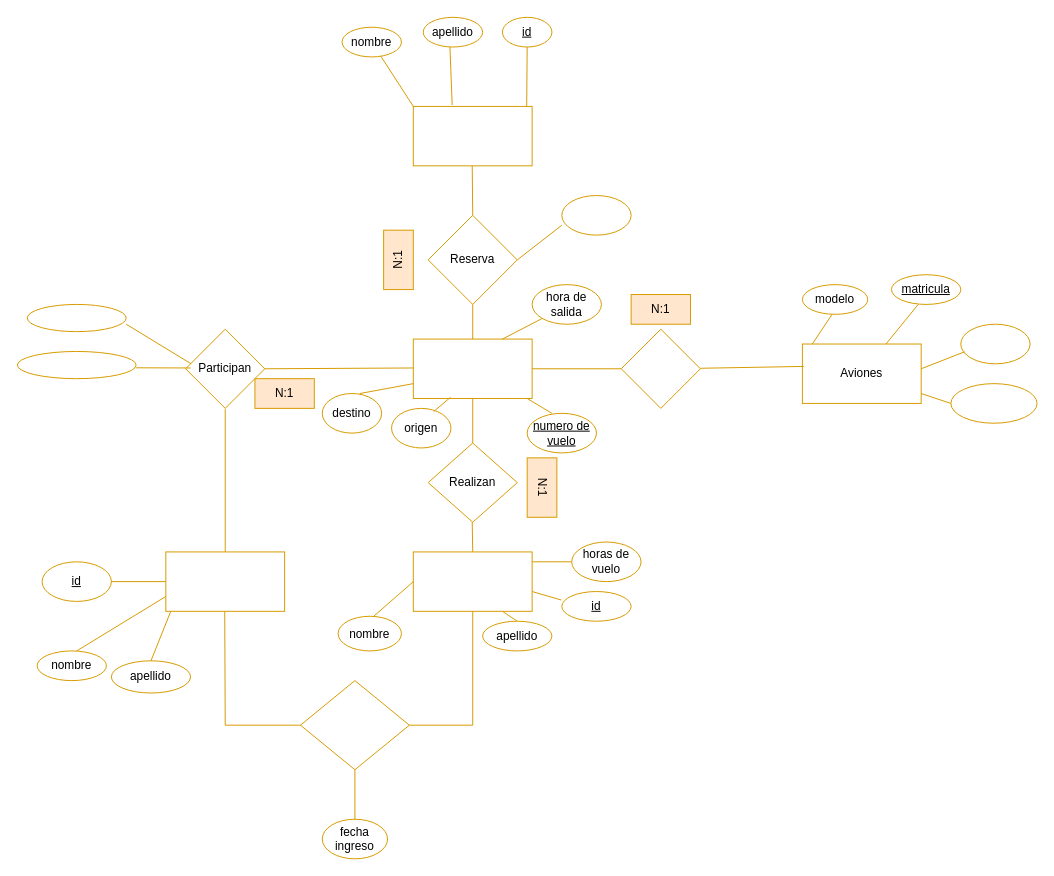
Image size: 1054x876. Some labels were removed from this diagram. The shapes that lost their labels are listed below. From the top down, each one's centre as x and y in pixels, then its label:
the point at 472,135: Pasajeros
the point at 596,215: cantidad pasajeros
the point at 76,317: cantidad
the point at 995,343: año de produccion
the point at 76,364: grupo_asignado
the point at 472,368: Vuelos
the point at 660,368: Operado
the point at 993,403: capacidad
the point at 225,581: Miembros de Tripulacion
the point at 472,581: Pilotos
the point at 354,725: IngresoTripulacion
